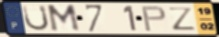1: (122, 5, 140, 32)
7: (85, 4, 106, 33)
M: (45, 3, 82, 33)
P: (140, 5, 168, 32)
U: (21, 4, 51, 32)
Z: (166, 6, 197, 31)
